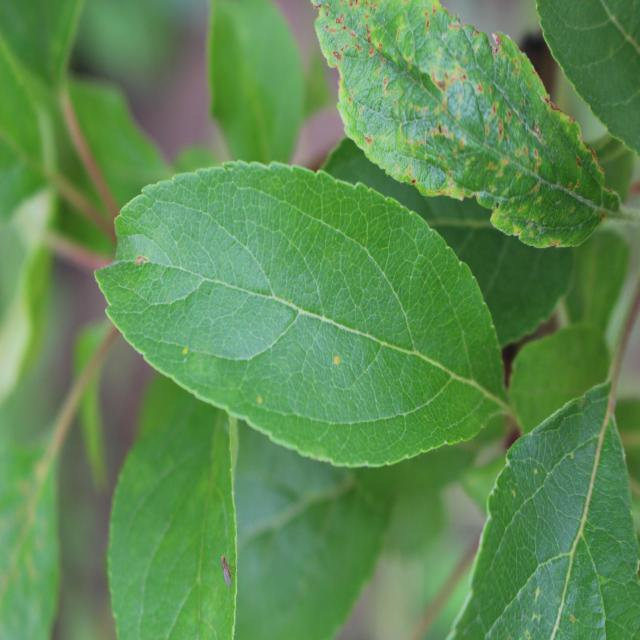Rust: (120, 248, 156, 279), (324, 346, 353, 374), (173, 343, 198, 371), (250, 391, 266, 420)
